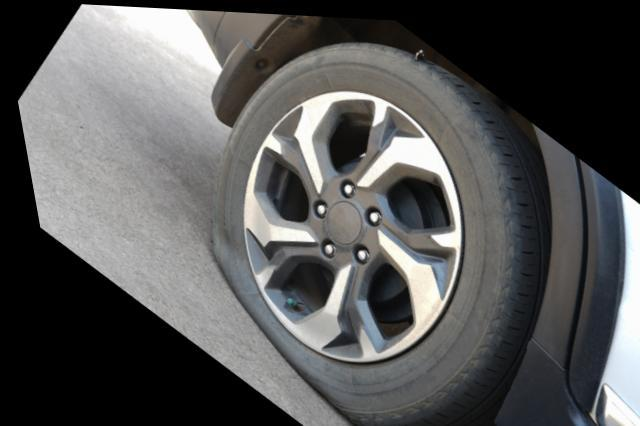tire flat: (199, 38, 546, 426)
